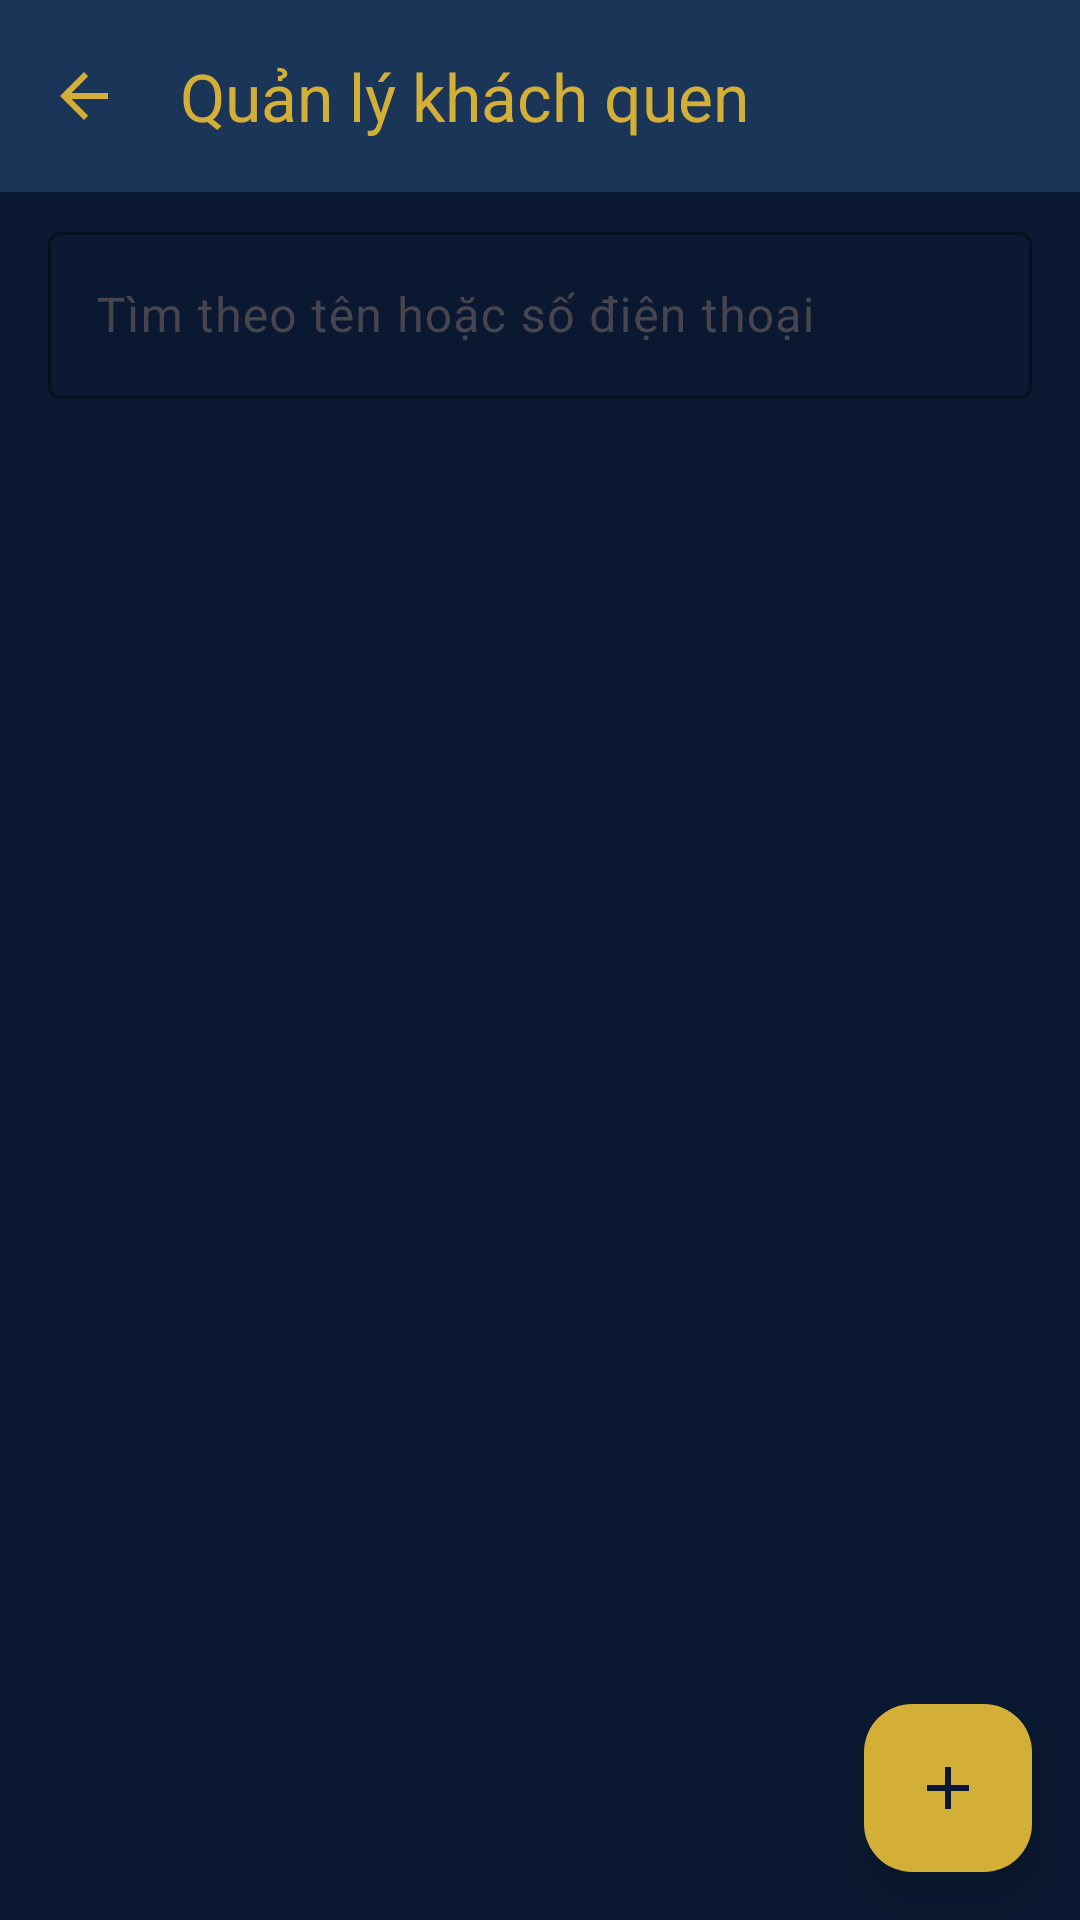

Icon bounding boxes for this 1080×1920 phone screenshot, format BBox(x1, y1, x2, y2):
Thêm khách quen: BBox(864, 1704, 1032, 1872)
